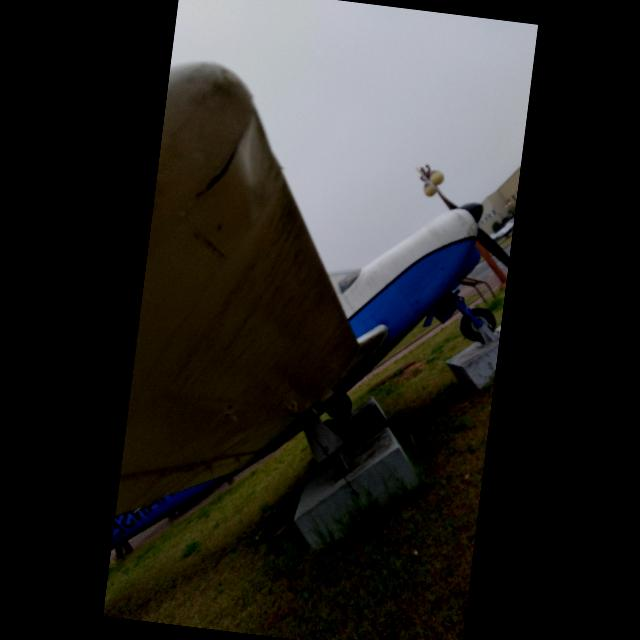dent: (221, 106, 274, 186)
